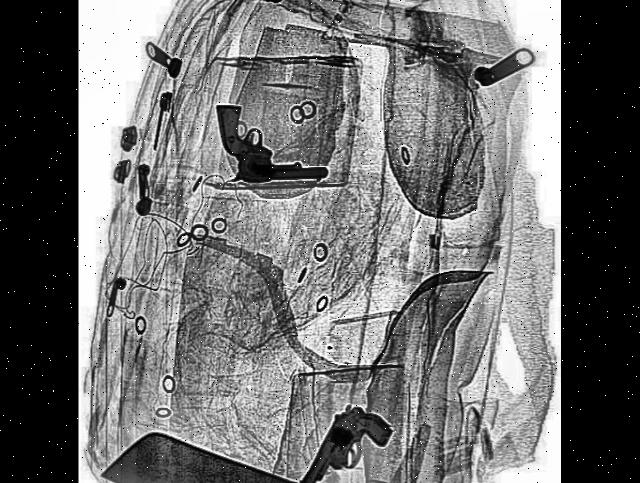Gun: (218, 101, 331, 188), (298, 383, 396, 483)
Knife: (102, 424, 400, 483)
